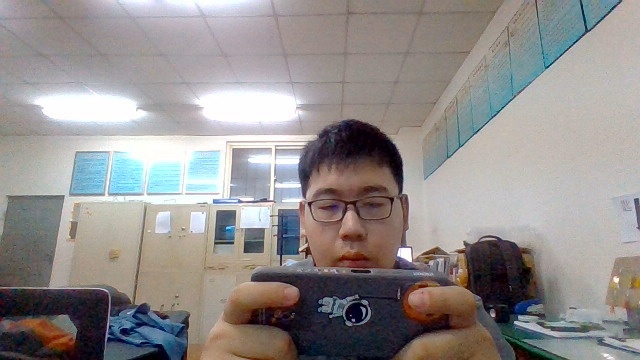playing: (193, 103, 491, 355)
